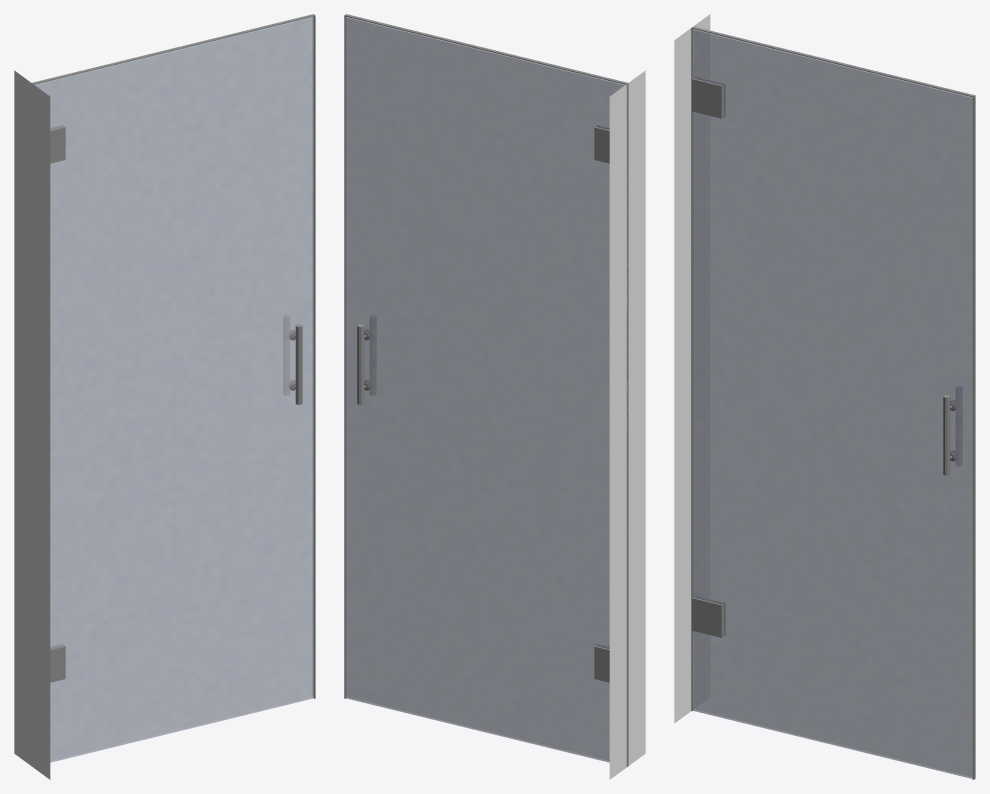
Rendered from glass_door_framless.obj.
3 views of the same model, side by side, from view 1: azimuth 30°, elevation 25°; view 2: azimuth 150°, elevation 25°; view 3: azimuth 330°, elevation 25° (orthographic).
Parts seen in each view (by area): view 1: sweethome3d_opening_on_hinge_1_door_1, 2_2, 14_14, sweethome3d_opening_on_hinge_1_clamps_1, sweethome3d_opening_on_hinge_1_handle_1; view 2: sweethome3d_opening_on_hinge_1_door_1, 2_2, 14_14, sweethome3d_opening_on_hinge_1_clamps_1, sweethome3d_opening_on_hinge_1_handle_1; view 3: sweethome3d_opening_on_hinge_1_door_1, 2_2, 14_14, sweethome3d_opening_on_hinge_1_clamps_1, sweethome3d_opening_on_hinge_1_handle_1.
Part boxes in pixels (left/top/right/bottom): sweethome3d_opening_on_hinge_1_door_1: left=35, top=17, right=313, bottom=762; 2_2: left=14, top=70, right=50, bottom=779; 14_14: left=32, top=14, right=315, bottom=698; sweethome3d_opening_on_hinge_1_clamps_1: left=50, top=125, right=65, bottom=682; sweethome3d_opening_on_hinge_1_handle_1: left=287, top=324, right=302, bottom=404; sweethome3d_opening_on_hinge_1_door_1: left=346, top=17, right=624, bottom=762; 2_2: left=609, top=70, right=645, bottom=779; 14_14: left=344, top=14, right=628, bottom=766; sweethome3d_opening_on_hinge_1_clamps_1: left=594, top=125, right=609, bottom=682; sweethome3d_opening_on_hinge_1_handle_1: left=357, top=324, right=372, bottom=404; sweethome3d_opening_on_hinge_1_door_1: left=693, top=29, right=972, bottom=778; 2_2: left=674, top=14, right=710, bottom=723; 14_14: left=691, top=26, right=975, bottom=779; sweethome3d_opening_on_hinge_1_clamps_1: left=691, top=77, right=725, bottom=637; sweethome3d_opening_on_hinge_1_handle_1: left=943, top=395, right=958, bottom=475.
Size of the model in its own units: 91 by 211 by 20.
6 materials, 1 textured.
